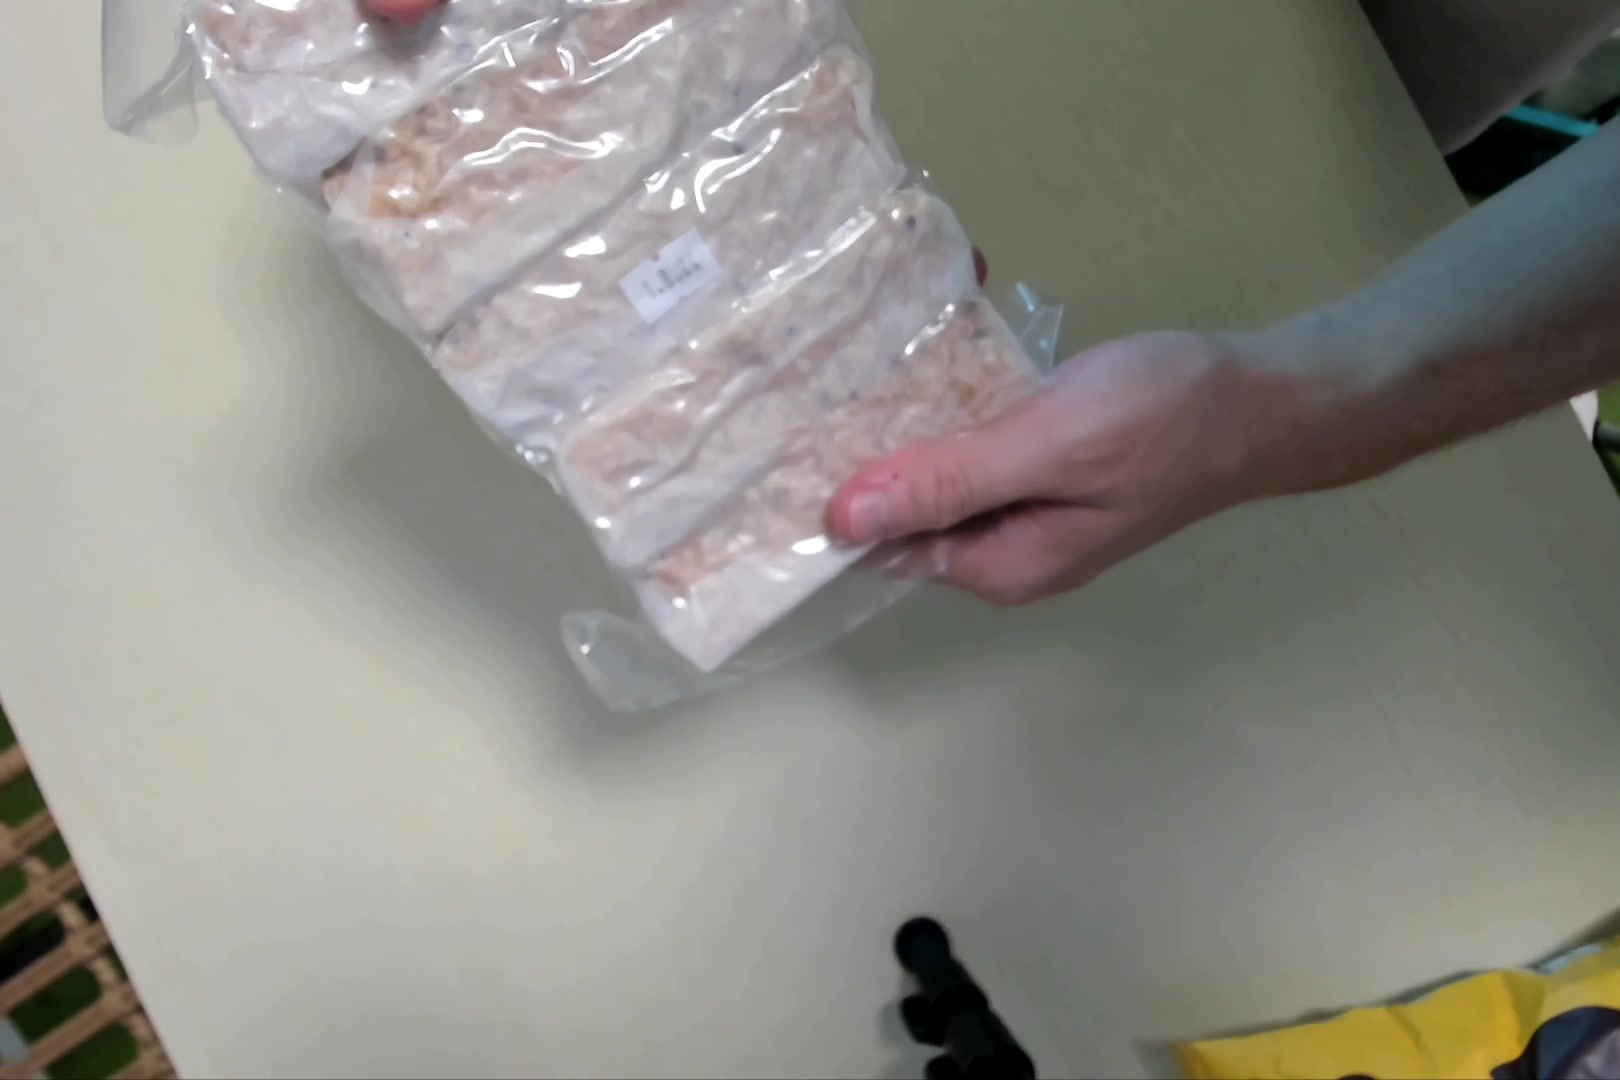PotatoChipsKeropok_100-199g_NonHalal_NonHealthy: (198, 2, 1056, 681)
